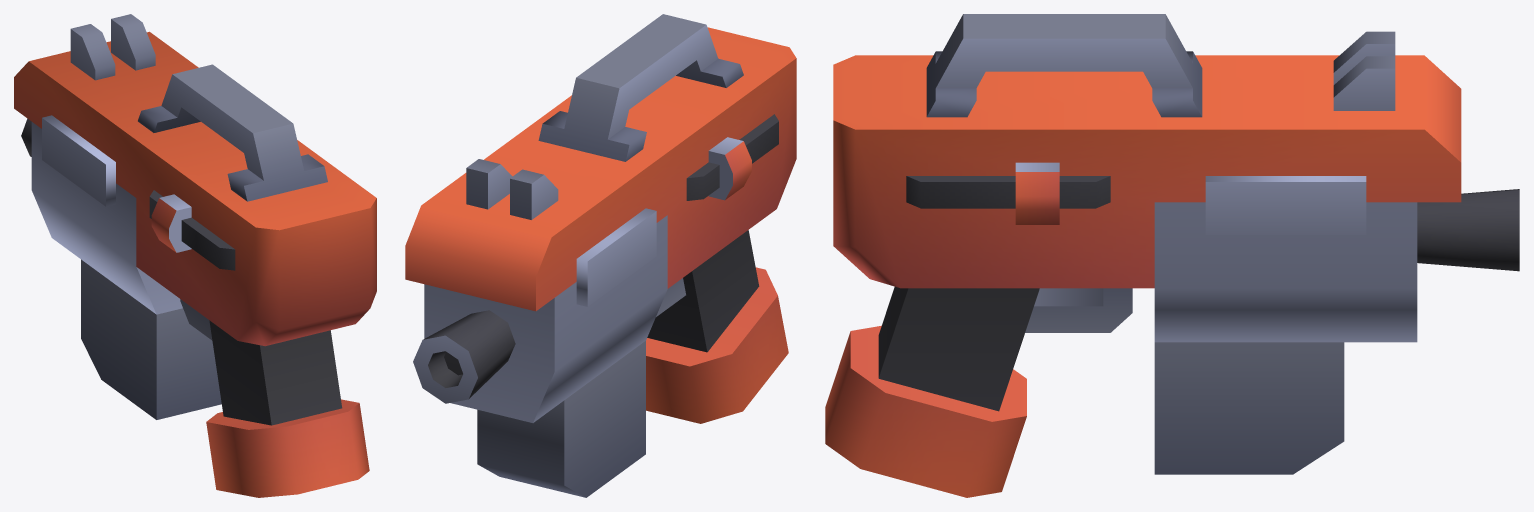
File: smg.glb
3 renders of one model, left to right at view 1: azimuth 30°, elevation 25°; view 2: azimuth 150°, elevation 25°; view 3: azimuth 270°, elevation 25°, orthographic. The views are drawn at different scales.
Parts seen in each view (by area): view 1: blaster-c; view 2: blaster-c; view 3: blaster-c.
Boxes of the visible parts, x1=… form: blaster-c: x1=14, y1=14, x2=376, y2=497; blaster-c: x1=405, y1=14, x2=796, y2=497; blaster-c: x1=825, y1=14, x2=1519, y2=497.
Bounding box in the file's own units: 0.165 × 0.3379 × 0.4754.
Materials: 1 (1 with a texture image).
